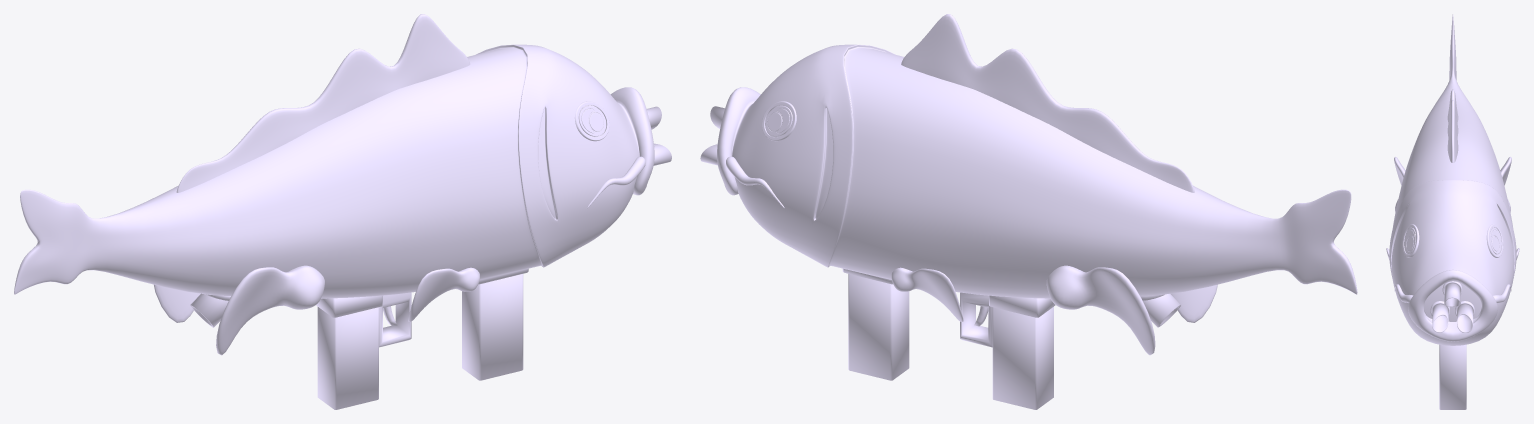
Rendered from pescadocohete.gltf.
3 views of the same model, side by side, from view 1: azimuth 30°, elevation 25°; view 2: azimuth 150°, elevation 25°; view 3: azimuth 270°, elevation 25° (orthographic). The views are drawn at different scales.
Parts seen in each view (by area): view 1: Fish_Gun; view 2: Fish_Gun; view 3: Fish_Gun.
Boxes of the visible parts, left/top/right/bottom form: Fish_Gun: left=14, top=14, right=671, bottom=409; Fish_Gun: left=700, top=14, right=1357, bottom=409; Fish_Gun: left=1386, top=14, right=1519, bottom=409.
Bounding box in the file's own units: 3.14 × 1.73 × 0.757.
